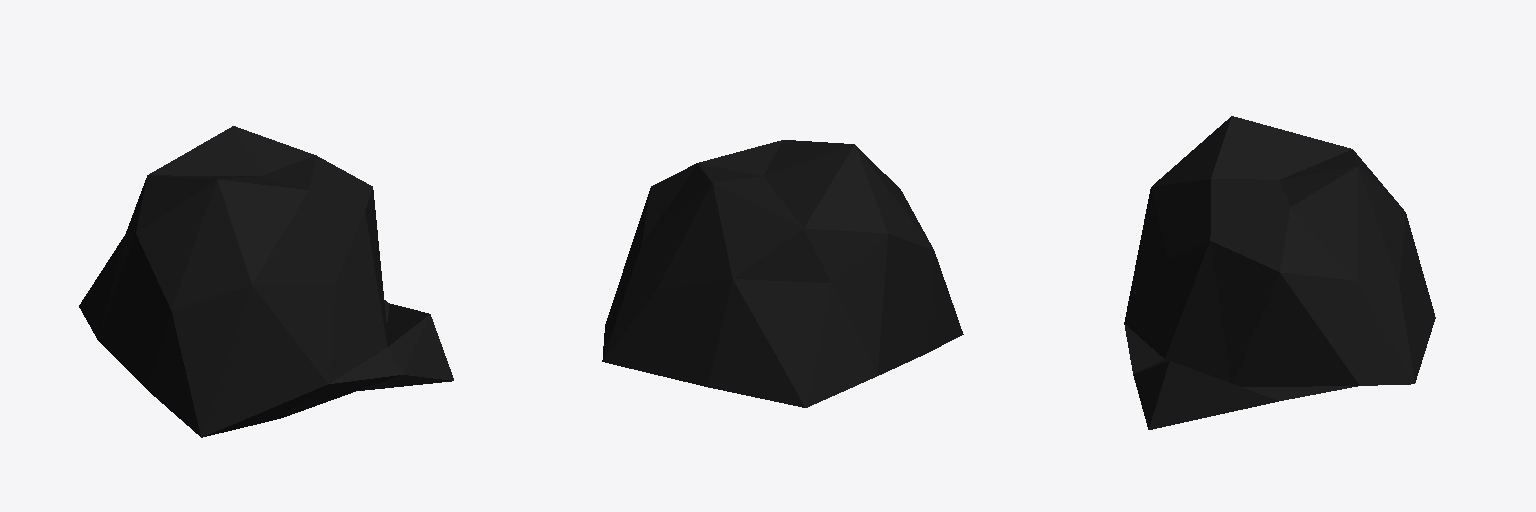
File: rock1.obj
3 renders of one model, left to right at view 1: azimuth 30°, elevation 25°; view 2: azimuth 150°, elevation 25°; view 3: azimuth 270°, elevation 25°, orthographic.
Parts seen in each view (by area): view 1: Icosphere; view 2: Icosphere; view 3: Icosphere.
Part boxes in pixels (x1,y1,x2,y2): Icosphere: (79, 126, 453, 437); Icosphere: (602, 140, 963, 407); Icosphere: (1124, 116, 1435, 429).
Bounding box in the file's own units: 15.86 × 12.41 × 16.